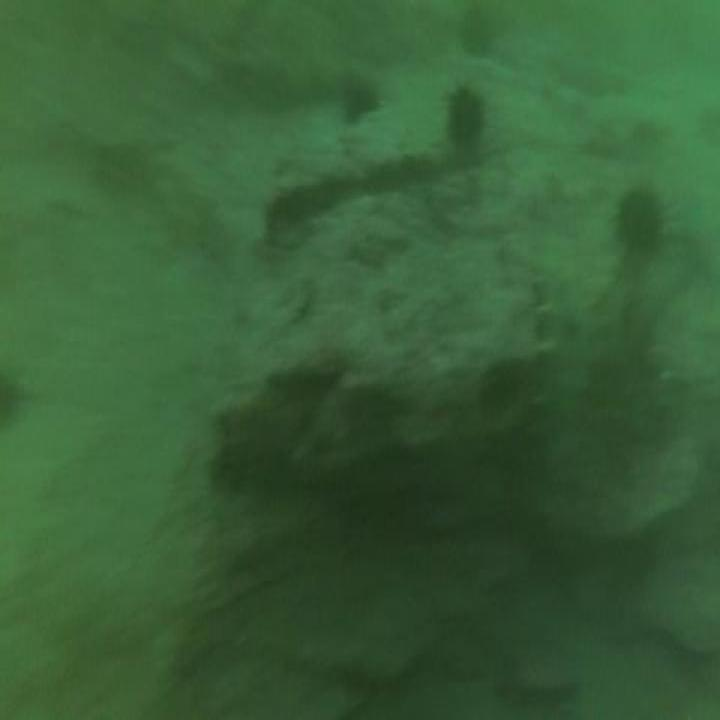echinus: (619, 187, 658, 254), (447, 91, 486, 142)
holothurian: (529, 270, 567, 462)
